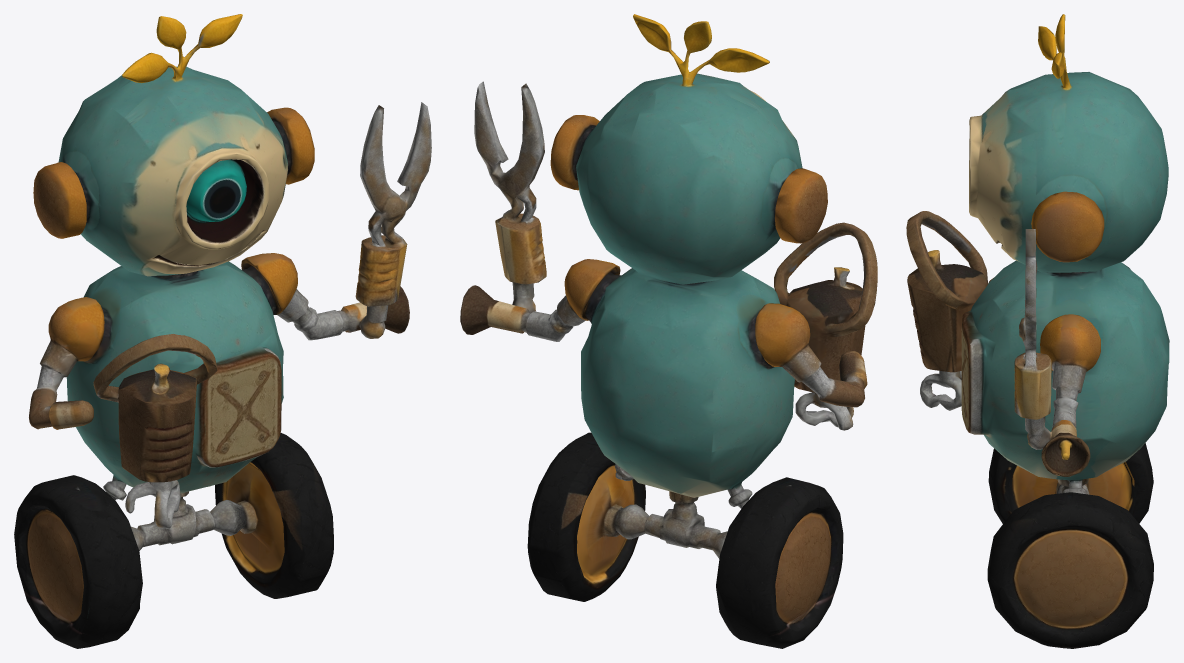
File: garden_bot.glb
The picture shows the model from 3 angles, left to right: view 1: azimuth 30°, elevation 25°; view 2: azimuth 150°, elevation 25°; view 3: azimuth 270°, elevation 25°; orthographic projection. The views are drawn at different scales.
Parts seen in each view (by area): view 1: Mesh_0; view 2: Mesh_0; view 3: Mesh_0.
Part boxes in pixels (bbox=[...]): Mesh_0: bbox=[14, 14, 431, 648]; Mesh_0: bbox=[460, 14, 877, 648]; Mesh_0: bbox=[906, 14, 1169, 648].
Size of the model in its own units: 1.3 by 1.9 by 0.7884.
Materials: 1 (1 with a texture image).
